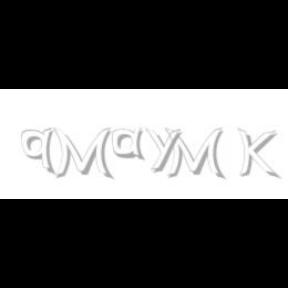K: (237, 128, 277, 180)
M: (52, 128, 112, 180), (164, 128, 224, 180)
a: (112, 128, 150, 160)
q: (21, 128, 57, 176)
y: (145, 128, 185, 172)
